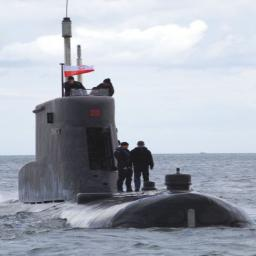submarine: (17, 96, 256, 229)
